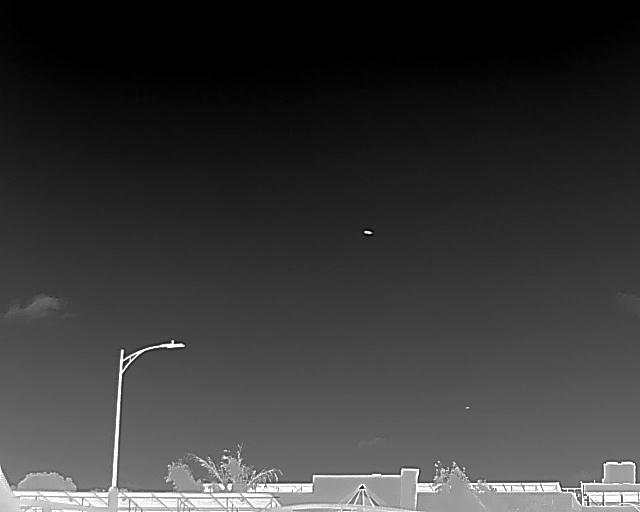fpv-drone: (363, 229, 373, 235)
